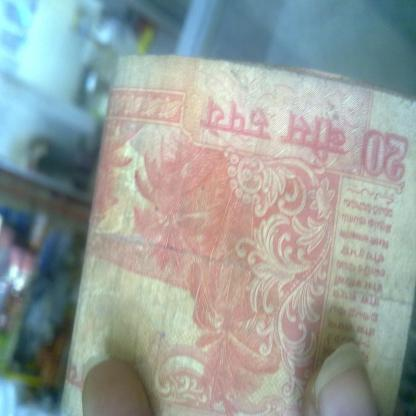Old20Back: (83, 55, 408, 415)
